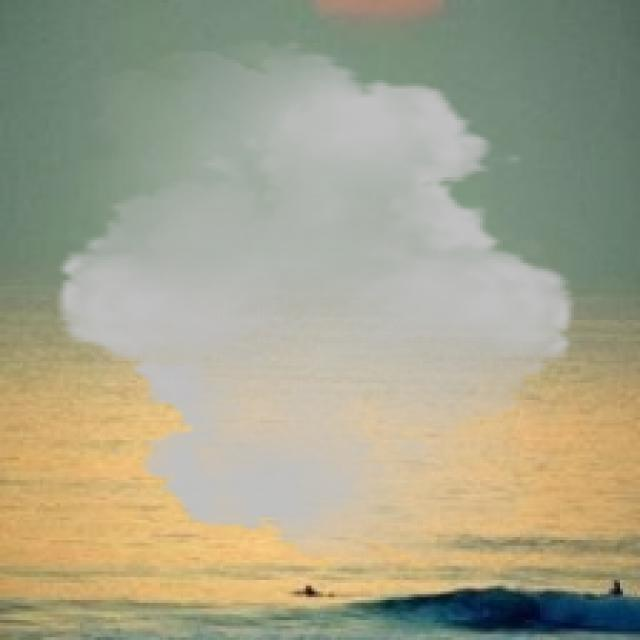Smoke: (34, 39, 597, 572)
